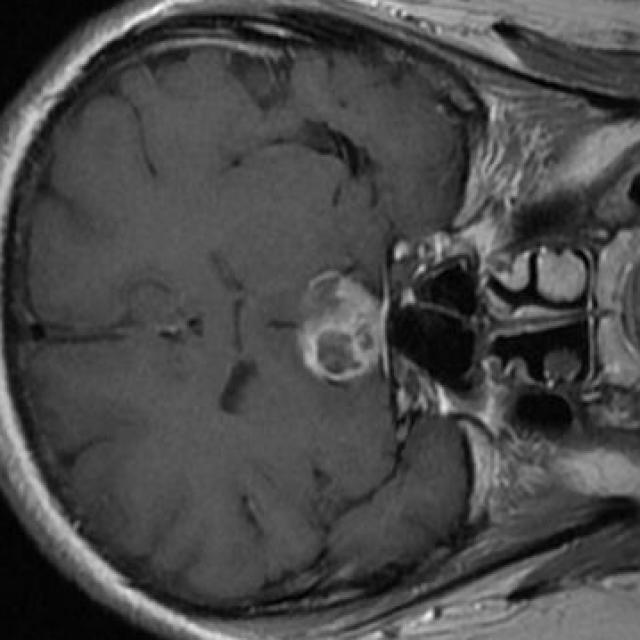pituitary: (298, 271, 382, 382)
